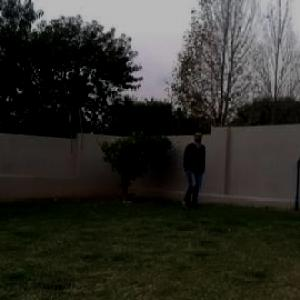follow: (186, 133, 204, 207)
